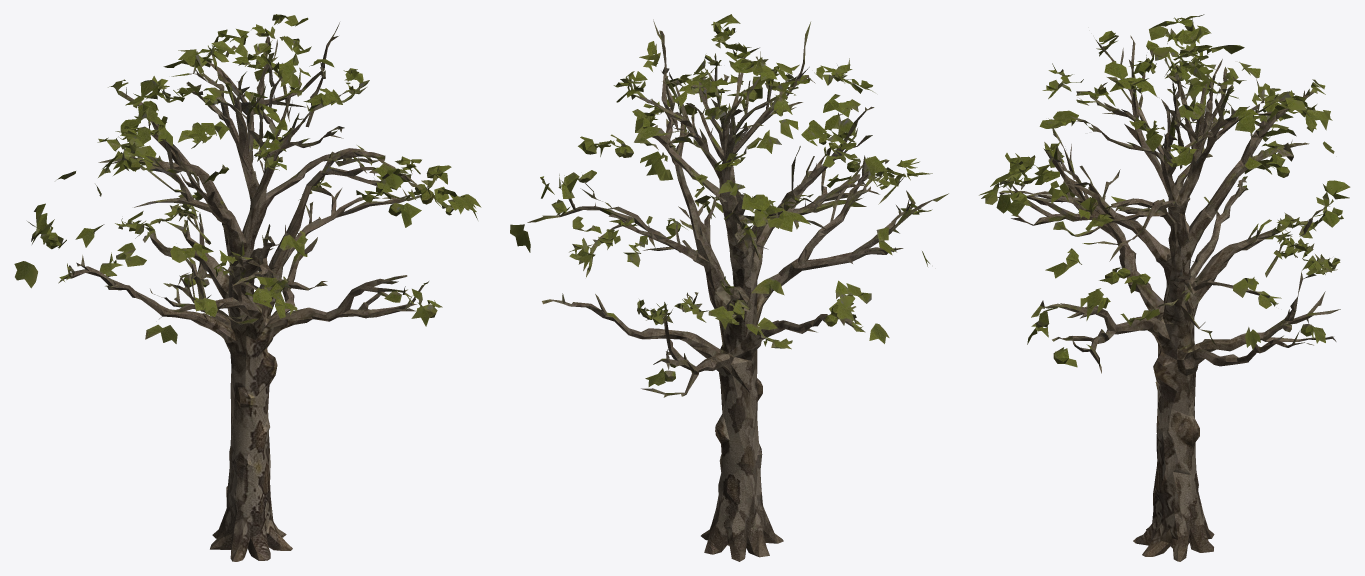
File: plane-tree.glb
3 views of the same model, side by side, from view 1: azimuth 30°, elevation 25°; view 2: azimuth 150°, elevation 25°; view 3: azimuth 270°, elevation 25° (orthographic).
Parts seen in each view (by area): view 1: Mesh_0; view 2: Mesh_0; view 3: Mesh_0.
Boxes of the visible parts, box(x1,y1,x2,y2) form: Mesh_0: box(14, 14, 481, 561); Mesh_0: box(510, 14, 948, 561); Mesh_0: box(979, 14, 1350, 561).
Bounding box in the file's own units: 1.39 × 1.77 × 1.15.
Materials: 1 (1 with a texture image).
